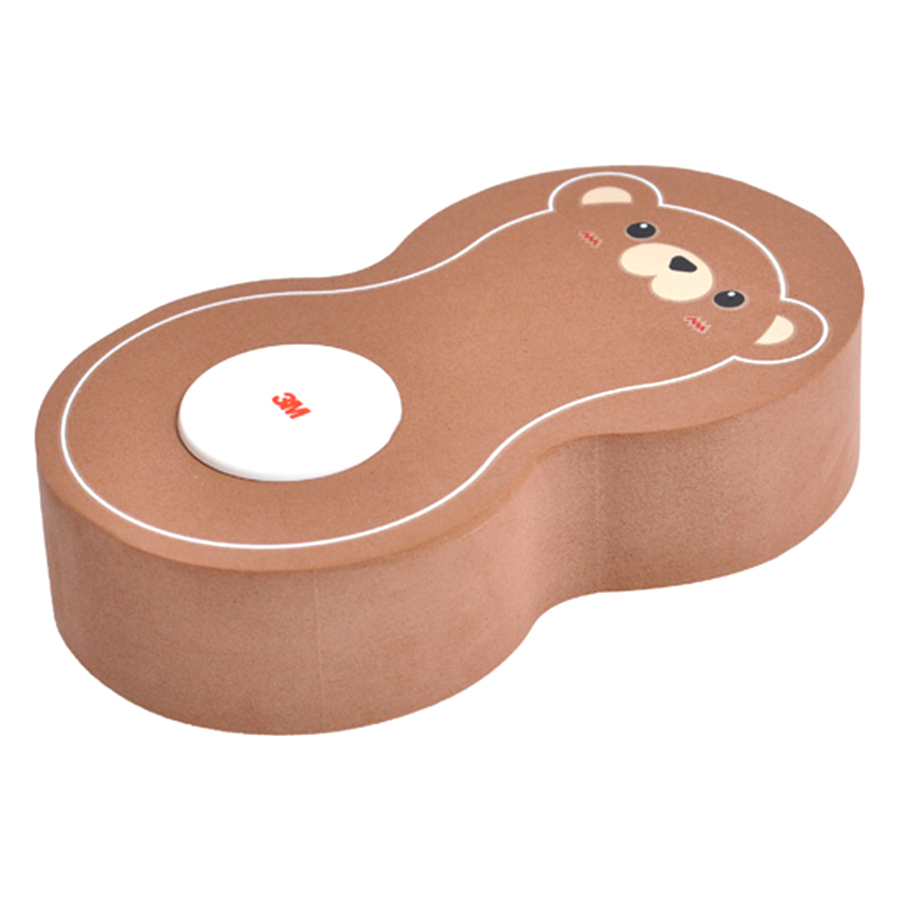3M: (267, 387, 316, 433)
